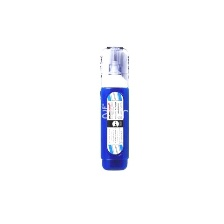correction_fluid: (97, 44, 133, 175)
